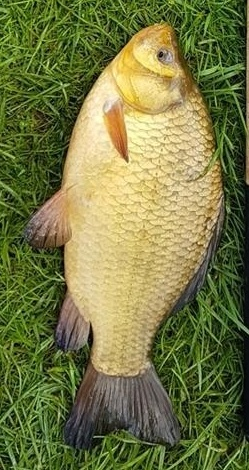Carassius carassius: (20, 20, 229, 450)
